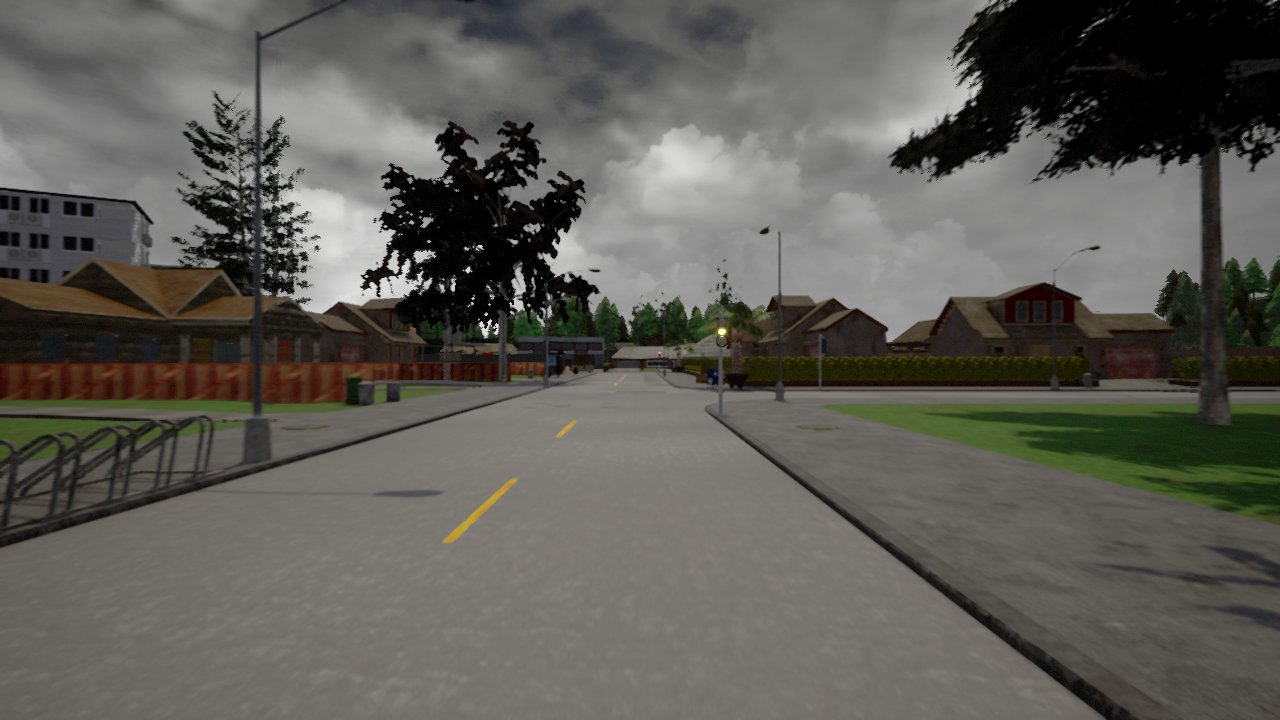yellow: (714, 315, 729, 348)
